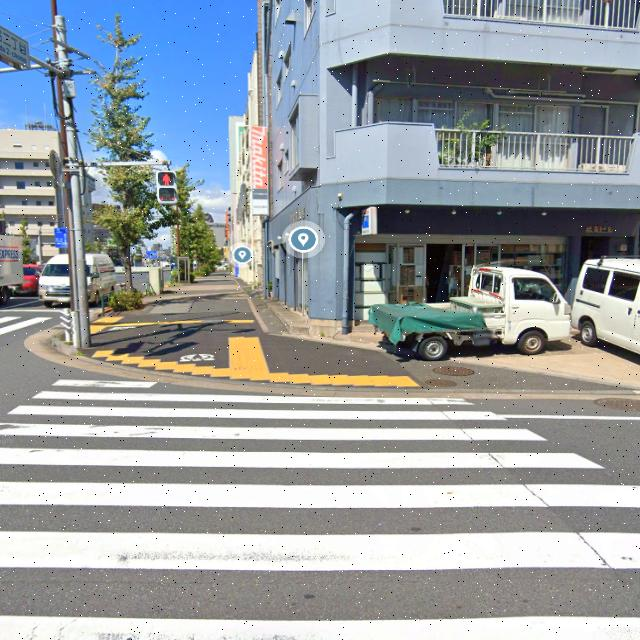traffic-light: (154, 172, 178, 204)
